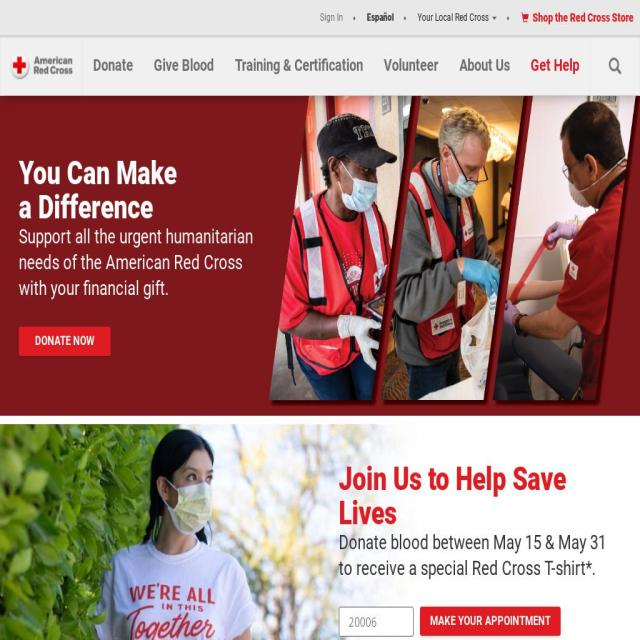button: (234, 38, 364, 94), (0, 37, 82, 94), (420, 606, 561, 636), (154, 38, 214, 94), (384, 38, 438, 94), (459, 38, 510, 94), (531, 38, 580, 94), (19, 326, 110, 356), (93, 38, 133, 94), (519, 13, 634, 22), (416, 13, 497, 22), (366, 13, 394, 22), (319, 13, 343, 22)
field: (338, 606, 414, 636)
heading: (339, 462, 621, 530), (19, 154, 177, 192), (19, 188, 153, 226)
image: (10, 52, 72, 81), (608, 54, 621, 78)
text: (339, 530, 621, 582), (19, 225, 253, 248), (19, 251, 242, 274), (19, 277, 169, 300), (430, 612, 551, 630), (532, 11, 634, 24), (28, 332, 100, 350)
